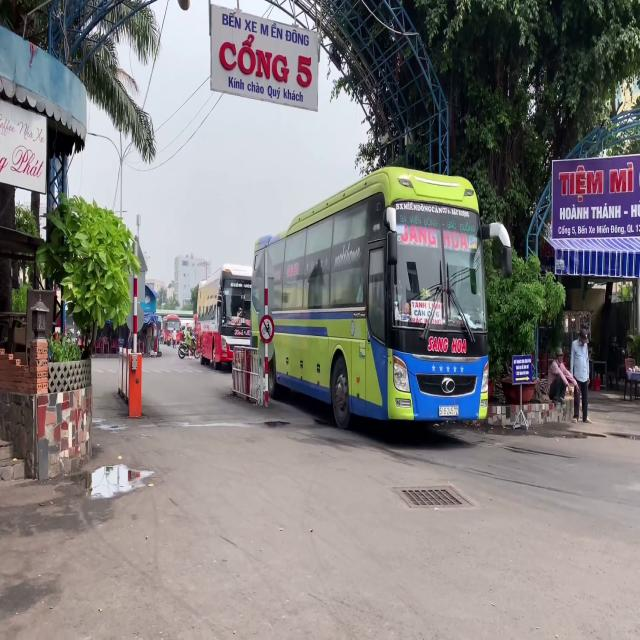bien_trang: (439, 406, 458, 418)
